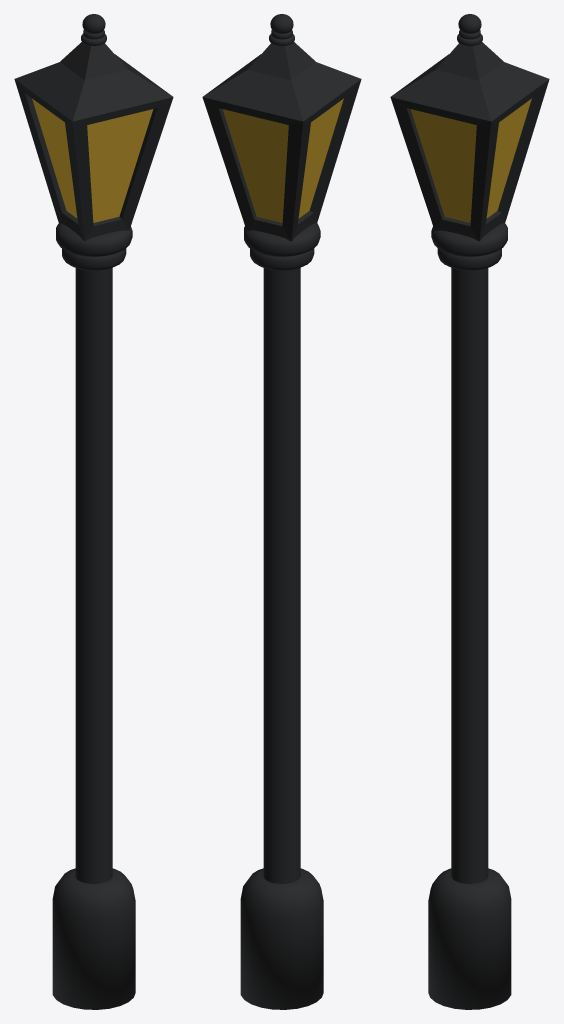
The model's file is Laterne_Einzelobjekt.fbx.
3 renders of one model, left to right at view 1: azimuth 30°, elevation 25°; view 2: azimuth 150°, elevation 25°; view 3: azimuth 330°, elevation 25°, orthographic.
Parts seen in each view (by area): view 1: Cylinder.007; view 2: Cylinder.007; view 3: Cylinder.007.
Part boxes in pixels (x1,y1,x2,y2): Cylinder.007: [14, 14, 173, 1009]; Cylinder.007: [202, 14, 361, 1009]; Cylinder.007: [390, 14, 549, 1009].
Bounding box in the file's own units: 34.95 × 323 × 34.95.
